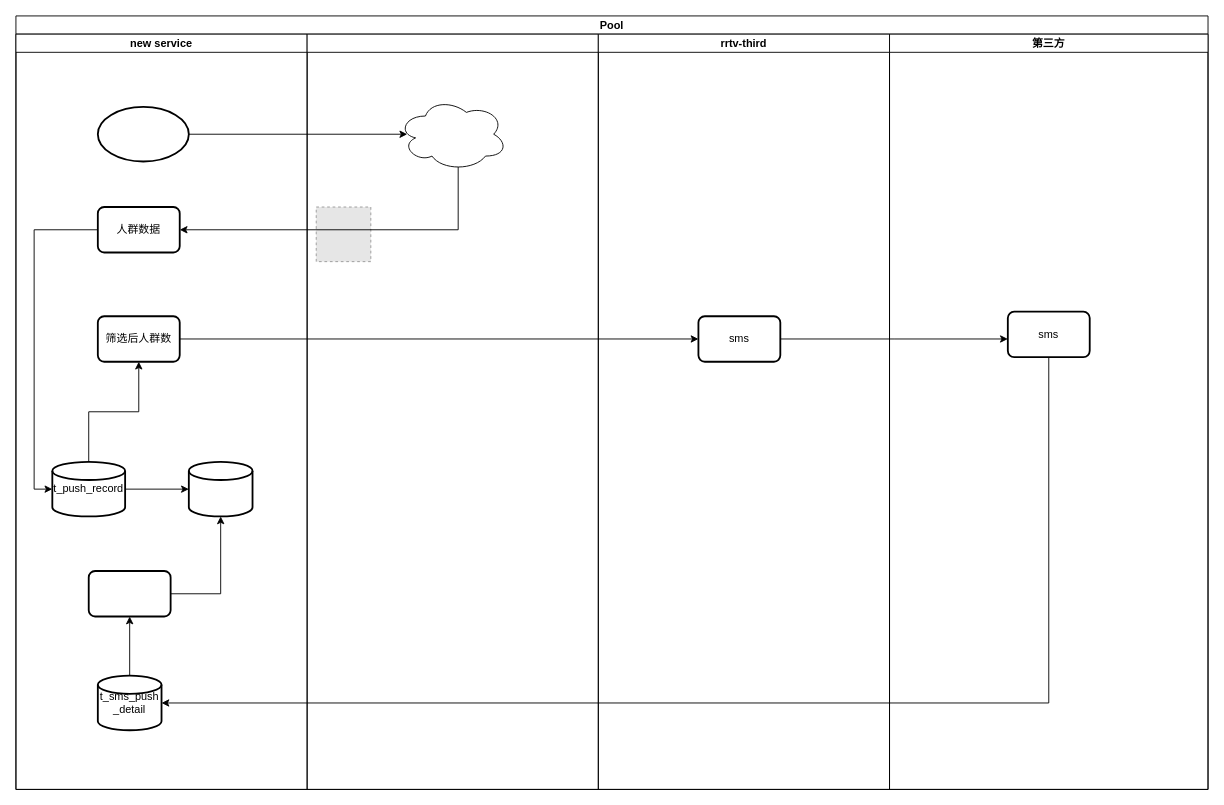
Some shapes in this 1224 by 805 pixel diagram are drawn without their labels. Grey dashed boxes stand in for pictures. Here are the shapes that lost their labels. From the top down, the box of each, then its label:
(96, 106, 189, 162): 计划开始
(397, 97, 507, 171): 人群包
(306, 33, 598, 789): 七牛云
(187, 460, 253, 517): t_sms_push
(87, 570, 171, 617): 更新成功/失败数
